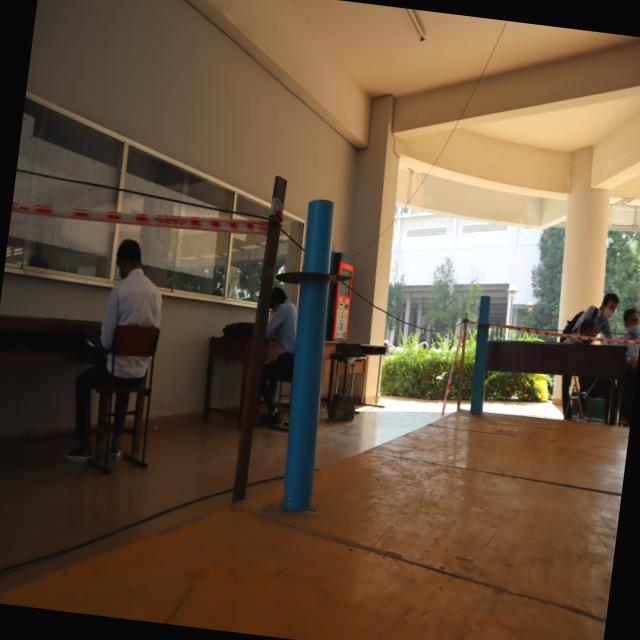pole: (259, 178, 372, 343), (462, 284, 504, 354)
